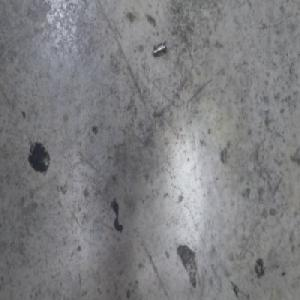Bolt: (152, 40, 167, 59)
